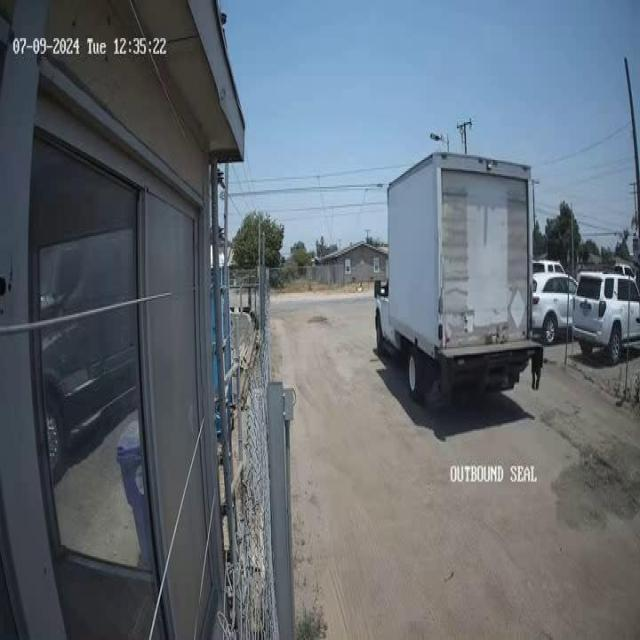TRUCK_CONTAINER: (373, 149, 542, 405)
